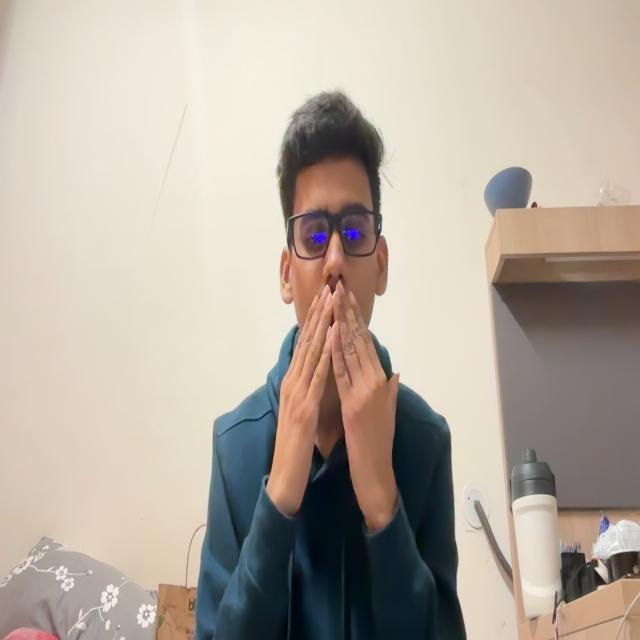Thanks: (265, 276, 414, 491)
